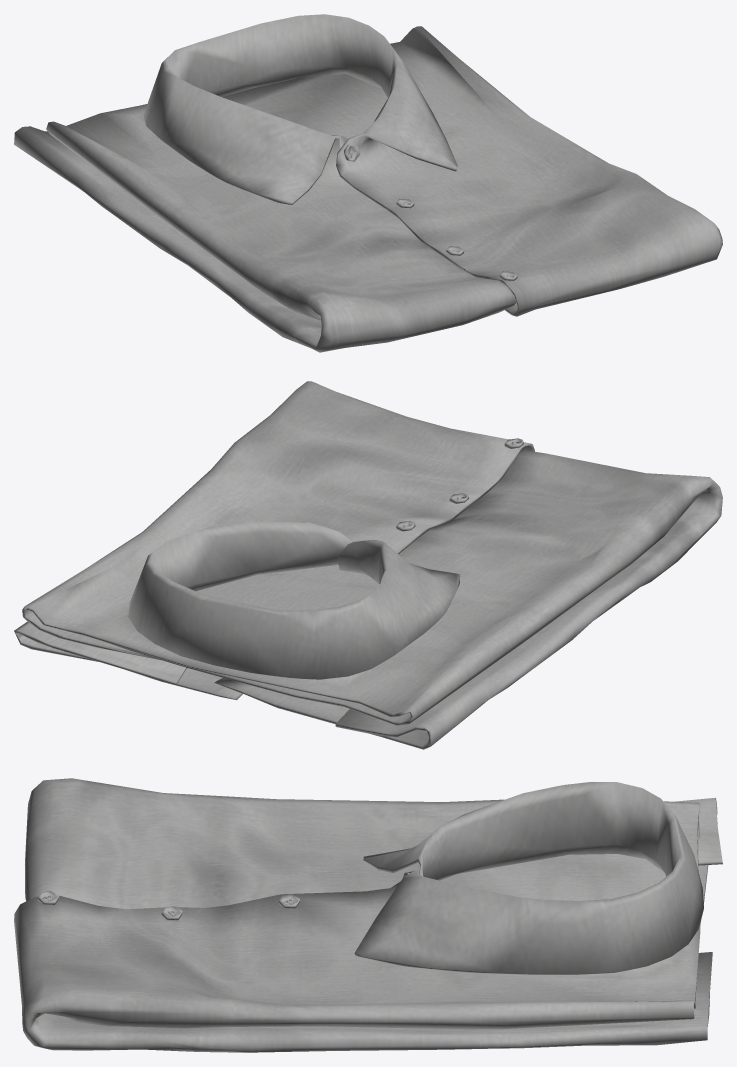
File: YMJ-衬衫.fbx
3 renders of one model, top to bottom at view 1: azimuth 30°, elevation 25°; view 2: azimuth 150°, elevation 25°; view 3: azimuth 270°, elevation 25°, orthographic. The views are drawn at different scales.
Parts seen in each view (by area): view 1: YMJ-衬衫; view 2: YMJ-衬衫; view 3: YMJ-衬衫.
Part boxes in pixels (bbox=[...]): YMJ-衬衫: bbox=[14, 14, 722, 352]; YMJ-衬衫: bbox=[14, 381, 722, 749]; YMJ-衬衫: bbox=[14, 778, 722, 1052].
Bounding box in the file's own units: 0.2935 × 0.3714 × 0.0697.
